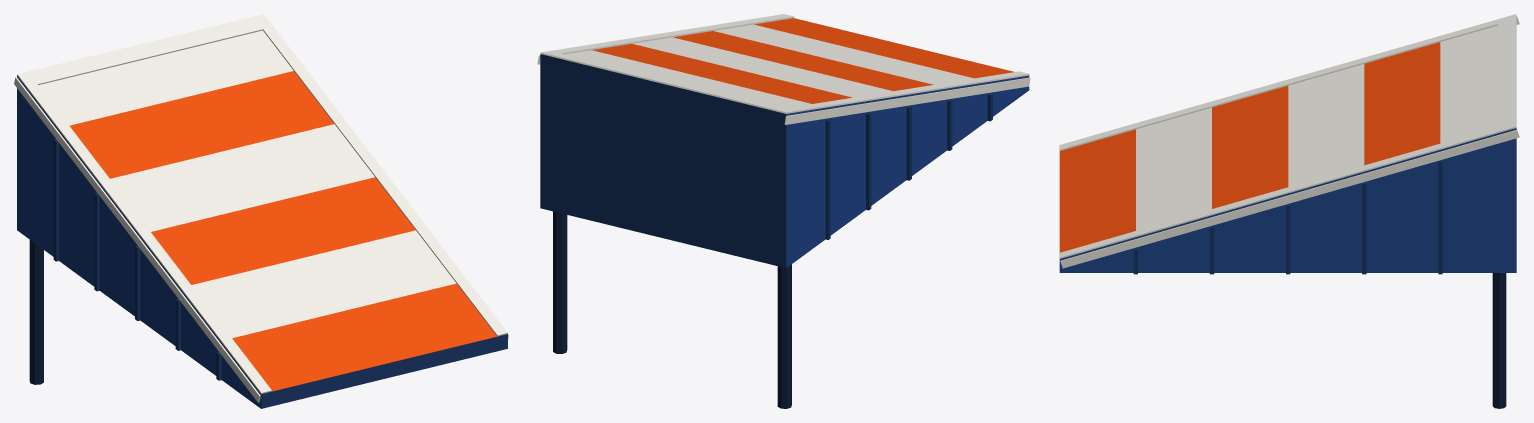
File: ramp.glb
3 views of the same model, side by side, from view 1: azimuth 30°, elevation 25°; view 2: azimuth 150°, elevation 25°; view 3: azimuth 270°, elevation 25° (orthographic). The views are drawn at different scales.
Visible parts, largest first — view 1: Wedge, SlopeEdges, LipTrim, SideBands, Ribs, PostLeft; view 2: Wedge, SlopeEdges, SideBands, Ribs, PostLeft, PostRight, LipTrim; view 3: Wedge, SlopeEdges, SideBands, LipTrim, PostRight, Ribs.
Boxes of the visible parts, box(x1,y1,x2,y2) form: Wedge: box(17, 30, 507, 408); SlopeEdges: box(17, 14, 507, 394); LipTrim: box(17, 14, 273, 87); SideBands: box(14, 77, 508, 402); Ribs: box(53, 139, 221, 380); PostLeft: box(29, 240, 43, 384); Wedge: box(540, 18, 1029, 267); SlopeEdges: box(542, 14, 1029, 112); SideBands: box(537, 55, 1030, 124); Ribs: box(825, 93, 992, 239); PostLeft: box(777, 264, 791, 408); PostRight: box(553, 211, 567, 353); LipTrim: box(540, 51, 795, 113); Wedge: box(1059, 25, 1516, 272); SlopeEdges: box(1059, 14, 1516, 258); SideBands: box(1060, 16, 1519, 268); LipTrim: box(1498, 15, 1516, 132); PostRight: box(1492, 273, 1506, 408); Ribs: box(1133, 161, 1442, 274).
Size of the model in its own units: 7.16 by 8.24 by 12.09.
